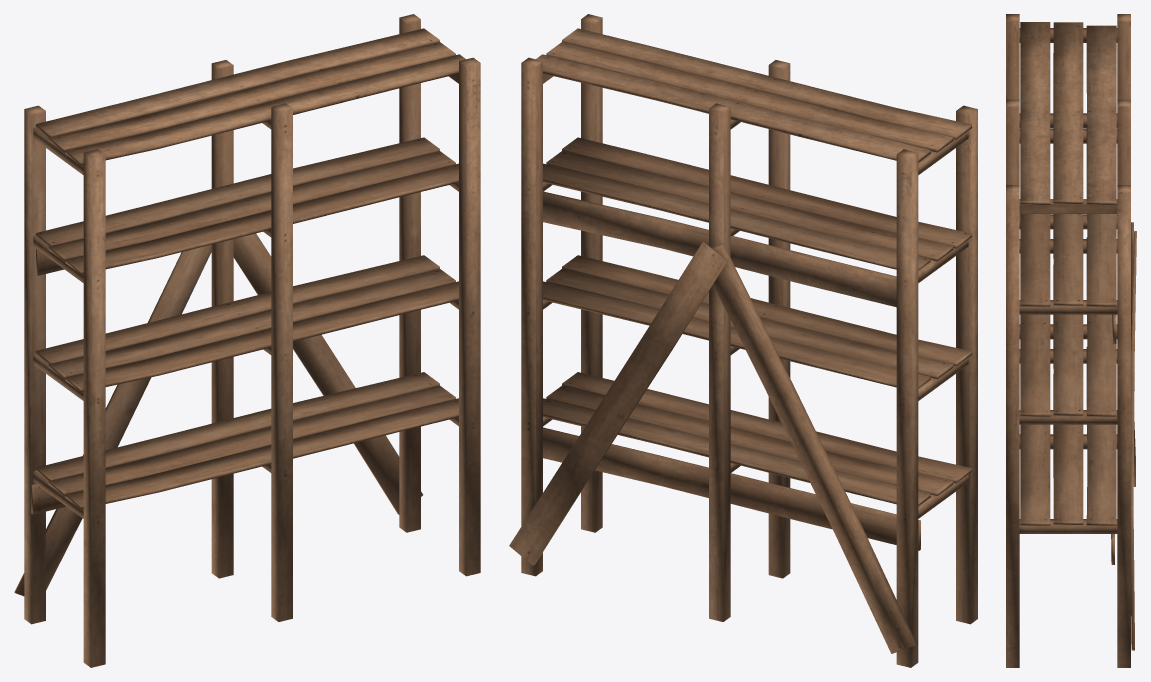
Rendered from WoodenStorageShelf.fbx.
3 views of the same model, side by side, from view 1: azimuth 30°, elevation 25°; view 2: azimuth 150°, elevation 25°; view 3: azimuth 270°, elevation 25° (orthographic). The views are drawn at different scales.
Visible parts, largest first — view 1: wooden_storage_shelf; view 2: wooden_storage_shelf; view 3: wooden_storage_shelf.
Boxes of the visible parts, x1,y1,x2,y2 form: wooden_storage_shelf: [14, 14, 480, 667]; wooden_storage_shelf: [509, 14, 977, 667]; wooden_storage_shelf: [1006, 14, 1136, 667].
Size of the model in its own units: 2.17 by 2.6 by 0.647.
Materials: 1 (1 with a texture image).
